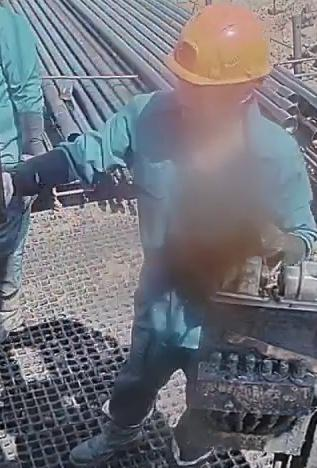gloves: (221, 203, 306, 273)
helmet: (163, 2, 273, 85)
vest: (127, 88, 317, 348)
